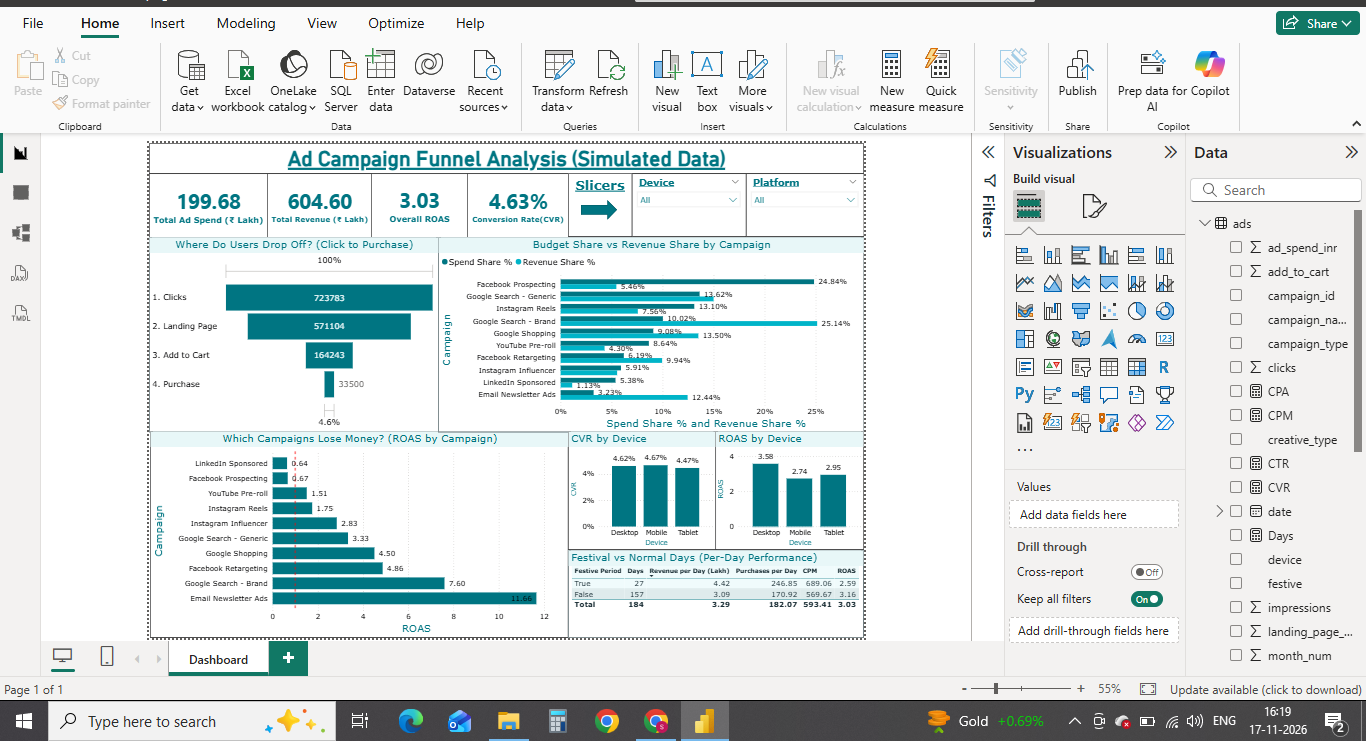

What the dashboard file says about the page in this screenshot:
{"tool":"powerbi","page":{"name":"Dashboard","canvas":[1300,900],"ordinal":0},"visuals":[{"type":"card","fields":{"Values":["ads.Spend (Lakh)"]},"box":[0,53.8,216.2,118.8],"z":0},{"type":"card","fields":{"Values":["ads.Revenue (Lakh)"]},"box":[214,54,192,118],"z":1000},{"type":"card","fields":{"Values":["ads.ROAS"]},"box":[404,52,177,120],"z":2000},{"type":"card","fields":{"Values":["ads.CVR"]},"box":[578,52,186,120],"z":3000},{"type":"funnel","title":"Where Do Users Drop Off? (Click to Purchase)","fields":{"Category":["Funnel Stages.Stage"],"Y":["Funnel Stages.Funnel Users"]},"box":[0,170,526.7,355],"z":4000},{"type":"clusteredBarChart","title":"Which Campaigns Lose Money? (ROAS by Campaign)","fields":{"Category":["ads.campaign_name"],"Y":["ads.ROAS"]},"box":[1.2,523.8,761.2,376.2],"z":5000},{"type":"clusteredBarChart","title":"Budget Share vs Revenue Share by Campaign","fields":{"Category":["ads.campaign_name"],"Y":["ads.Spend Share %","ads.Revenue Share %"]},"box":[525,170,775,355],"z":6000},{"type":"clusteredColumnChart","title":"CVR by Device","fields":{"Category":["ads.device"],"Y":["ads.CVR"]},"box":[761.4,524.3,270,215.7],"z":7000},{"type":"clusteredColumnChart","title":"ROAS by Device","fields":{"Y":["ads.ROAS"],"Category":["ads.device"]},"box":[1028.6,524.3,271.4,215.7],"z":8000},{"type":"tableEx","title":"Festival vs Normal Days (Per-Day Performance)","fields":{"Values":["ads.festive","ads.Days","ads.Revenue per Day (Lakh)","ads.Purchases per Day","ads.CPM","ads.ROAS"]},"box":[761.7,740,538.3,160],"z":9000},{"type":"slicer","fields":{"Values":["ads.platform"]},"box":[1083.3,55,216.7,116],"z":10000},{"type":"slicer","fields":{"Values":["ads.device"]},"box":[876.7,55,210,116],"z":11000},{"type":"textbox","box":[0,0,1300,56.2],"z":12000},{"type":"textbox","box":[761.7,55,116.7,116],"z":13000},{"type":"shape","box":[785.7,102.9,65.7,35.7],"z":14000}]}

Visuals, with their boxes on the page's 1300x900 design canvas (x1, y1, x2, y2). These are canvas units, not pixel positions in the 1366x741 screenshot, which may show the page scaled, cropped or inside an application window:
card - ads.Spend (Lakh): 0:54:216:173
card - ads.Revenue (Lakh): 214:54:406:172
card - ads.ROAS: 404:52:581:172
card - ads.CVR: 578:52:764:172
"Where Do Users Drop Off? (Click to Purchase)" funnel: 0:170:527:525
"Which Campaigns Lose Money? (ROAS by Campaign)" clusteredBarChart: 1:524:762:900
"Budget Share vs Revenue Share by Campaign" clusteredBarChart: 525:170:1300:525
"CVR by Device" clusteredColumnChart: 761:524:1031:740
"ROAS by Device" clusteredColumnChart: 1029:524:1300:740
"Festival vs Normal Days (Per-Day Performance)" tableEx: 762:740:1300:900
slicer - ads.platform: 1083:55:1300:171
slicer - ads.device: 877:55:1087:171
textbox: 0:0:1300:56
textbox: 762:55:878:171
shape: 786:103:851:139
